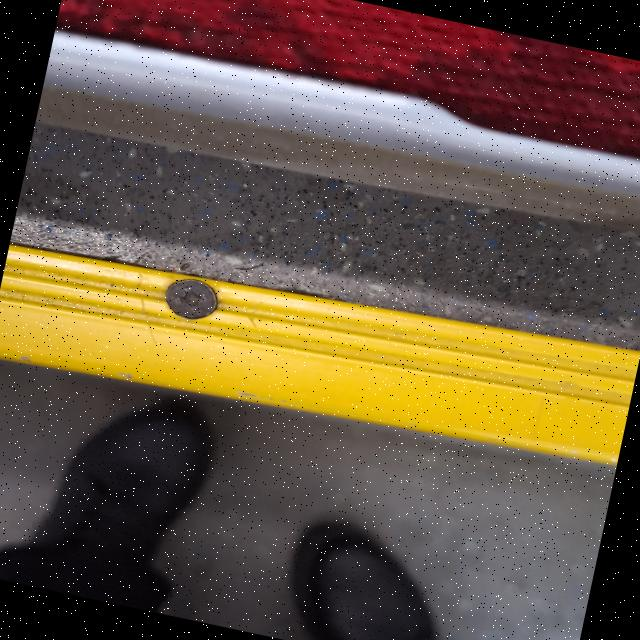Pozidriv: (150, 271, 222, 324)
